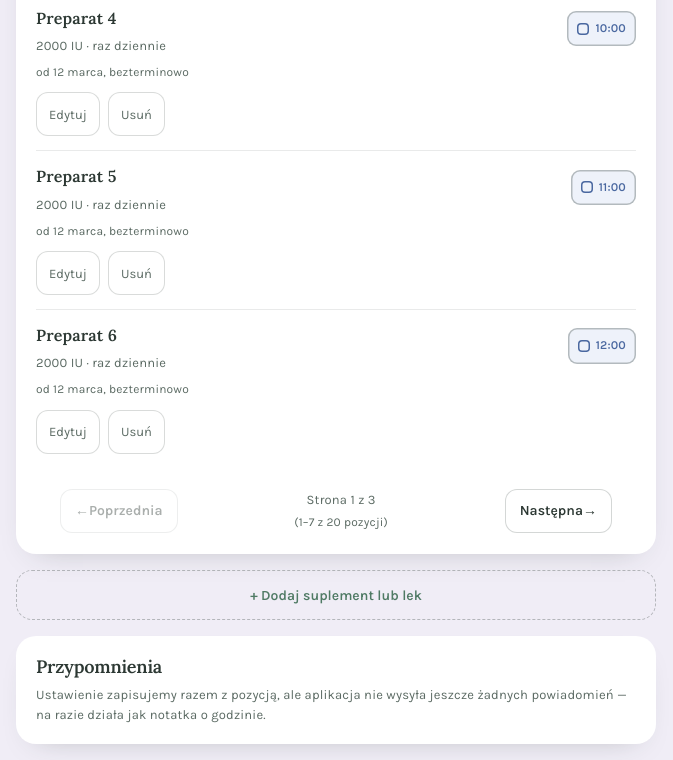
Test: the list is paginated › moves through the pages
(page scrolled)
Click the button "Następna →". click: (558, 511)
box: 505,489 -> 612,533
(page scrolled)
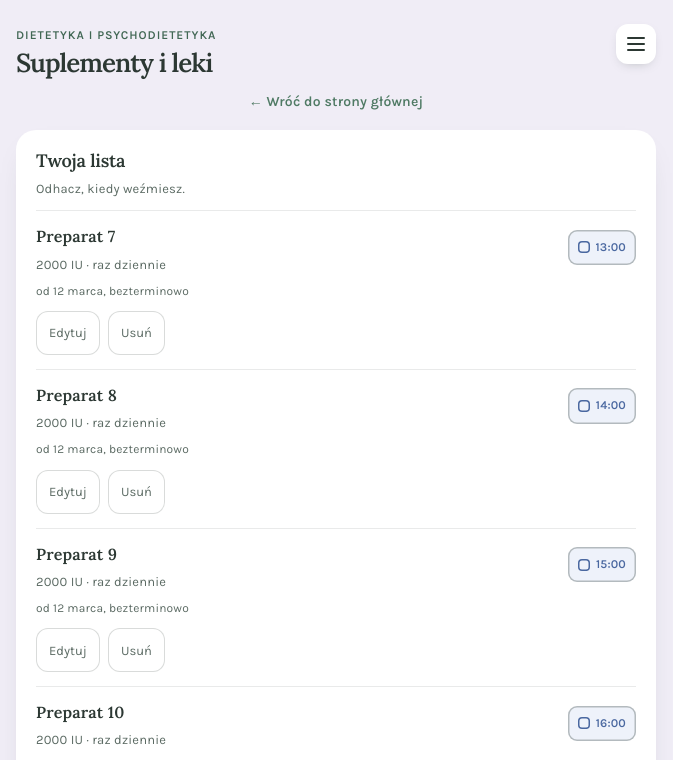
Now the heading "Preparat 7" is shown, box 36,226 -> 115,246
